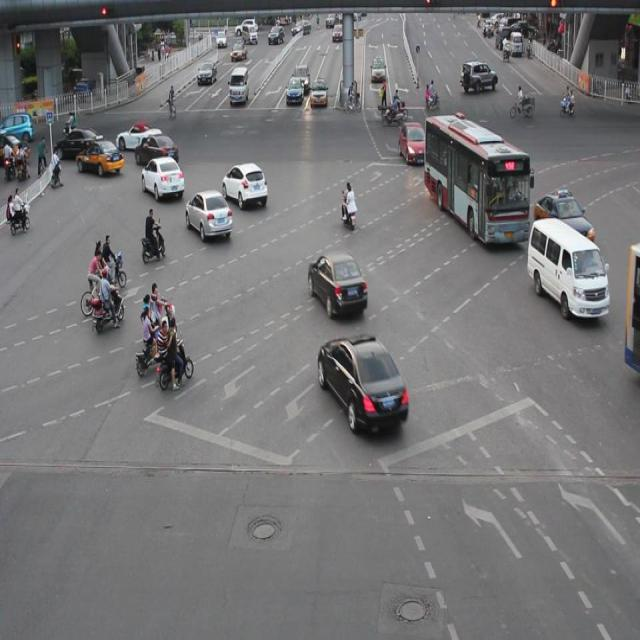car: (317, 332, 409, 431), (308, 251, 368, 316), (533, 187, 593, 246), (185, 189, 232, 239), (222, 160, 268, 206), (140, 154, 184, 198), (76, 137, 122, 175), (55, 126, 104, 161), (134, 132, 180, 168), (117, 122, 162, 152), (398, 121, 428, 166)
truck: (525, 216, 609, 317)
van: (424, 115, 528, 244)
